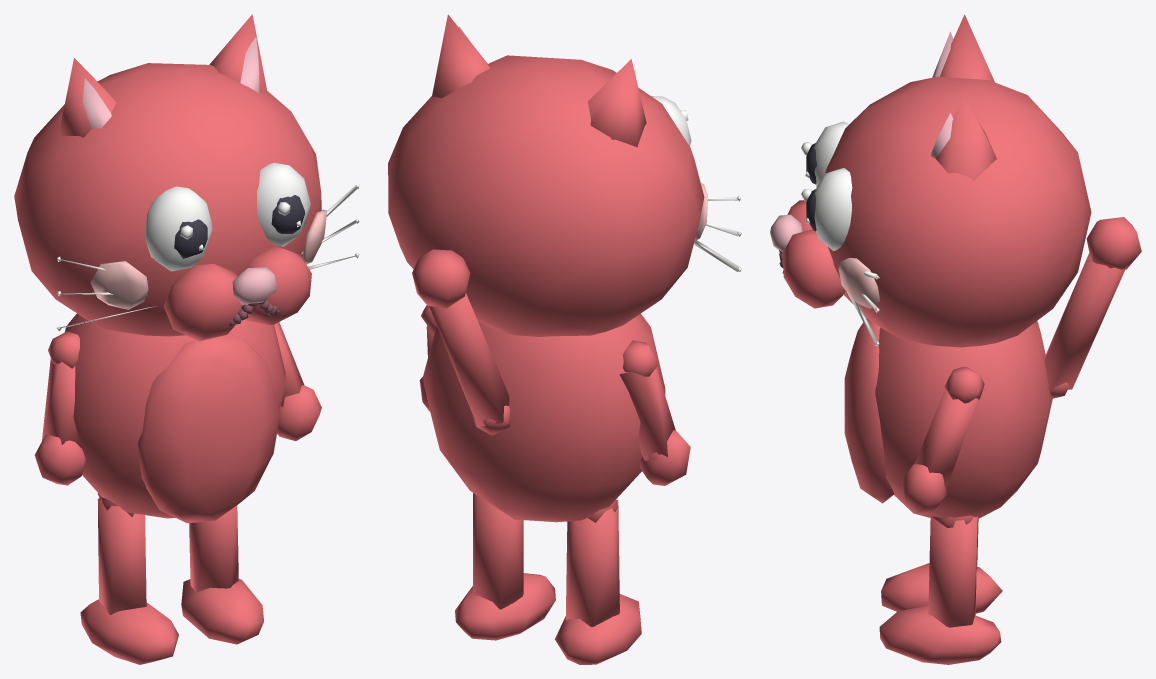
Rendered from Cat.fbx.
3 renders of one model, left to right at view 1: azimuth 30°, elevation 25°; view 2: azimuth 150°, elevation 25°; view 3: azimuth 270°, elevation 25°, orthographic. The views are drawn at different scales.
Parts seen in each view (by area): view 1: EX_Cat; view 2: EX_Cat; view 3: EX_Cat.
Part boxes in pixels (x1=…): EX_Cat: x1=14, y1=14, x2=359, y2=664; EX_Cat: x1=388, y1=14, x2=741, y2=664; EX_Cat: x1=770, y1=14, x2=1141, y2=664.
Size of the model in its own units: 117 by 221 by 128.
